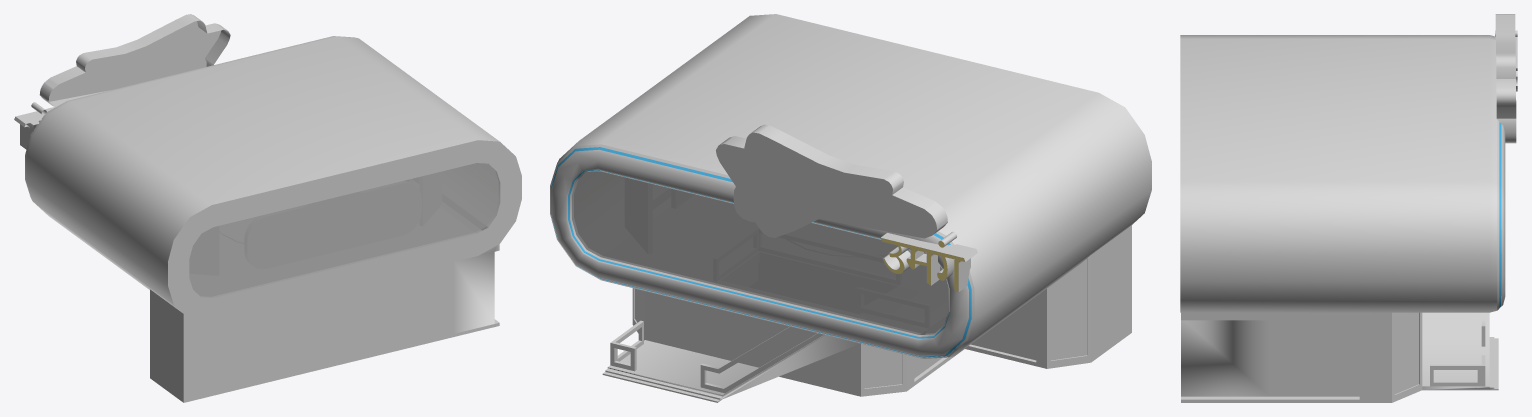
The model's file is umang_new-2.fbx.
The picture shows the model from 3 angles, left to right: view 1: azimuth 30°, elevation 25°; view 2: azimuth 150°, elevation 25°; view 3: azimuth 270°, elevation 25°; orthographic projection. The views are drawn at different scales.
Visible parts, largest first — view 1: polySurface4, Glass, group1; view 2: polySurface4, Glass, group1, Blue Emessive, Yelllow Emessive; view 3: polySurface4, Blue Emessive.
Part boxes in pixels (x1,y1,x2,y2): polySurface4: (14, 14, 521, 402); Glass: (189, 163, 500, 297); group1: (48, 21, 221, 101); polySurface4: (550, 14, 1151, 402); Glass: (572, 171, 948, 334); group1: (716, 132, 936, 238); Blue Emessive: (551, 147, 971, 357); Yelllow Emessive: (881, 238, 964, 291); polySurface4: (1180, 14, 1517, 402); Blue Emessive: (1499, 122, 1500, 307).
Size of the model in its own units: 2321 by 1495 by 1748.
4 materials, 1 textured.
